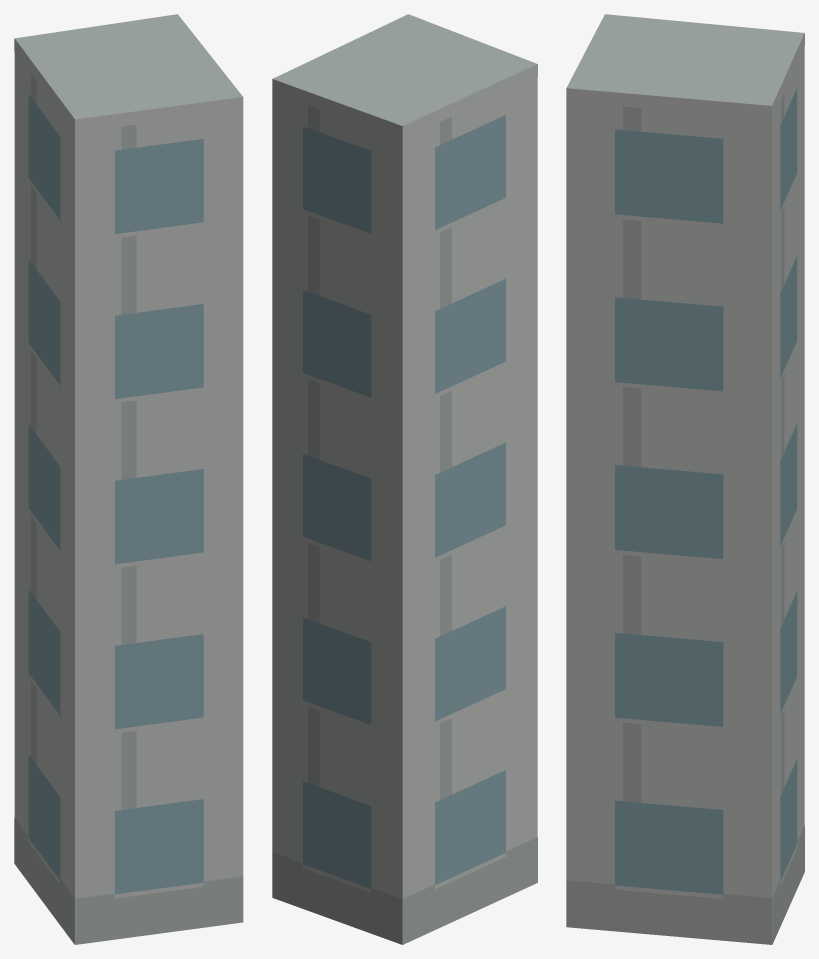
Rendered from survey-upis-32579689.glb.
3 renders of one model, left to right at view 1: azimuth 30°, elevation 25°; view 2: azimuth 150°, elevation 25°; view 3: azimuth 270°, elevation 25°, orthographic. The views are drawn at different scales.
Visible parts, largest first — view 1: survey-upis-32579689.tmp; view 2: survey-upis-32579689.tmp; view 3: survey-upis-32579689.tmp.
Boxes of the visible parts, x1,y1,x2,y2 form: survey-upis-32579689.tmp: (14,14,243,944); survey-upis-32579689.tmp: (272,14,537,944); survey-upis-32579689.tmp: (566,14,804,944).
Size of the model in its own units: 3.59 by 15.25 by 3.94.
